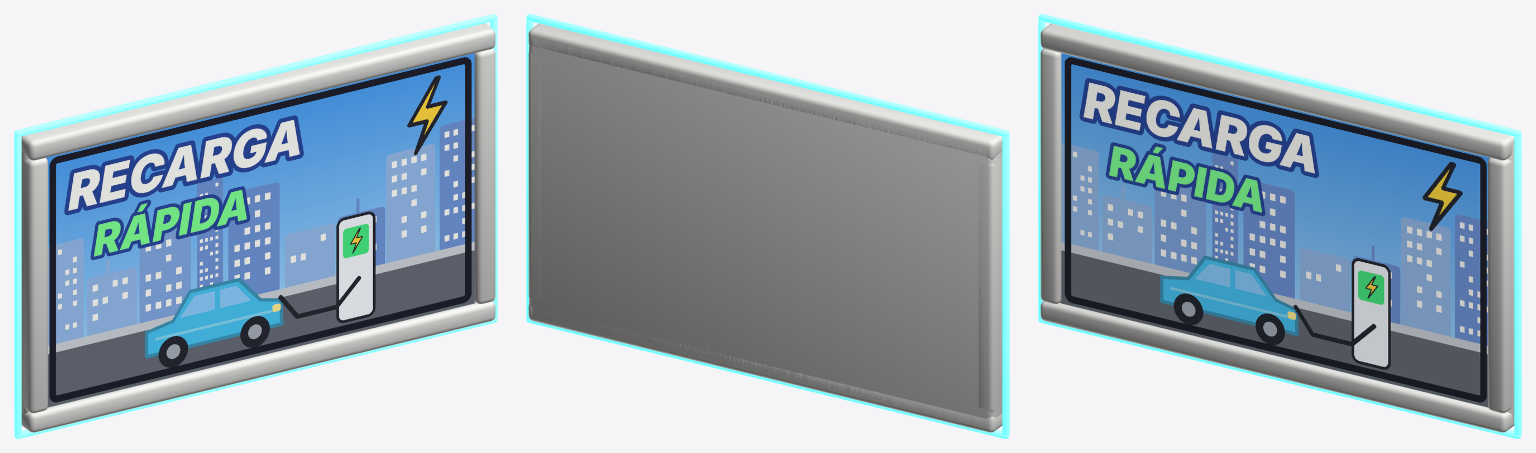
Rendered from painel_recarga_rapida.glb.
3 views of the same model, side by side, from view 1: azimuth 30°, elevation 25°; view 2: azimuth 150°, elevation 25°; view 3: azimuth 330°, elevation 25° (orthographic).
Visible parts, largest first — view 1: painel_recarga_rapida; view 2: painel_recarga_rapida; view 3: painel_recarga_rapida.
Boxes of the visible parts, x1=… form: painel_recarga_rapida: x1=14, y1=14, x2=497, y2=438; painel_recarga_rapida: x1=526, y1=14, x2=1009, y2=438; painel_recarga_rapida: x1=1038, y1=14, x2=1521, y2=438.
Bounding box in the file's own units: 4.05 × 2.48 × 0.24.
3 materials, 2 textured.
